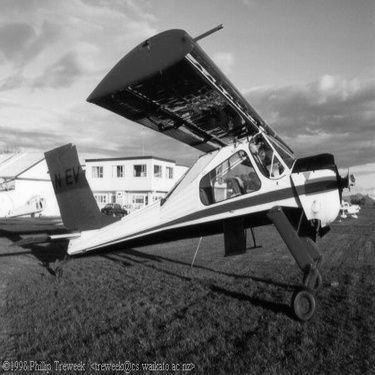airplane: (8, 13, 360, 326), (323, 192, 361, 230), (365, 48, 366, 49)
car: (107, 196, 129, 222)
